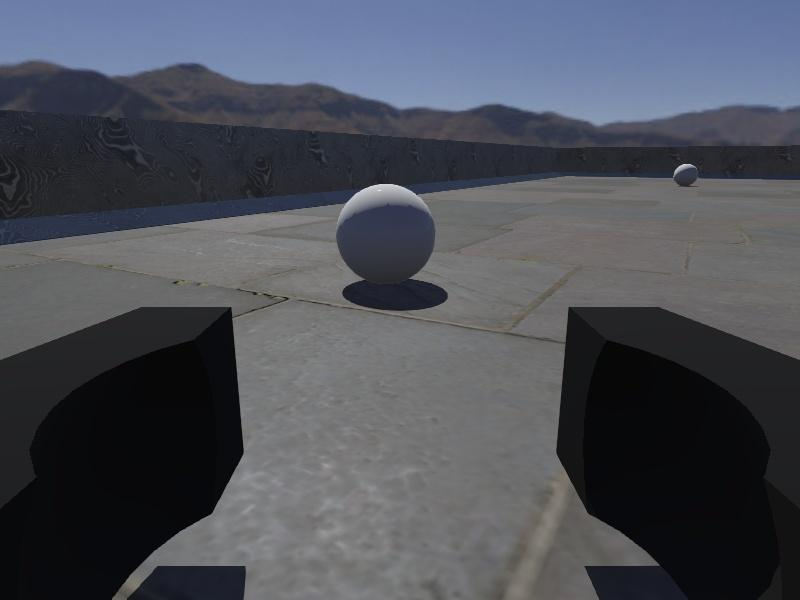white ball: (335, 182, 438, 286), (674, 162, 699, 188)
